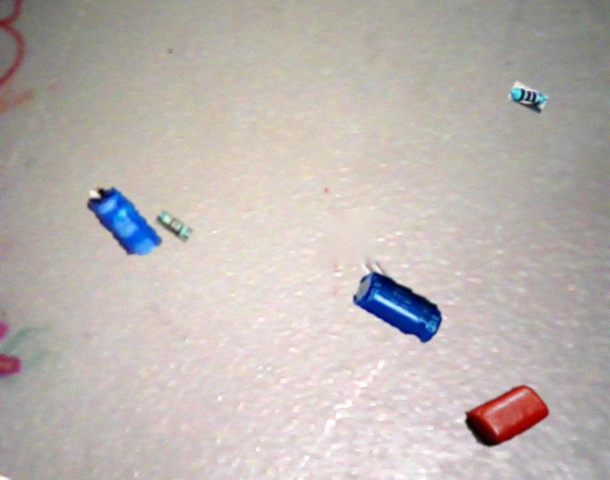capacitor: (352, 272, 442, 343), (465, 385, 549, 447), (87, 187, 162, 256)
resistor: (154, 209, 193, 243), (508, 81, 548, 113)
